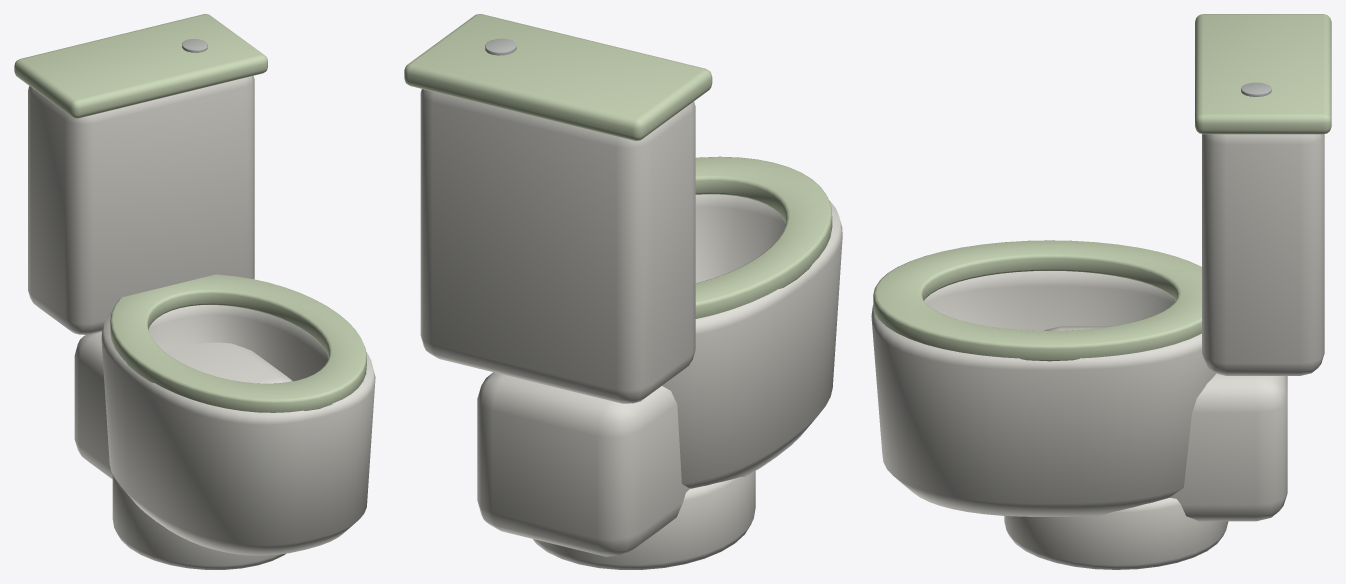
Rendered from two-piece-toilet.glb.
The picture shows the model from 3 angles, left to right: view 1: azimuth 30°, elevation 25°; view 2: azimuth 150°, elevation 25°; view 3: azimuth 270°, elevation 25°; orthographic projection. The views are drawn at different scales.
Parts seen in each view (by area): view 1: two-piece-toilet; view 2: two-piece-toilet; view 3: two-piece-toilet.
Part boxes in pixels (x1,y1,x2,y2): two-piece-toilet: [14, 14, 375, 569]; two-piece-toilet: [404, 14, 842, 569]; two-piece-toilet: [871, 14, 1331, 569].
Bounding box in the file's own units: 0.4 × 0.81 × 0.72.
